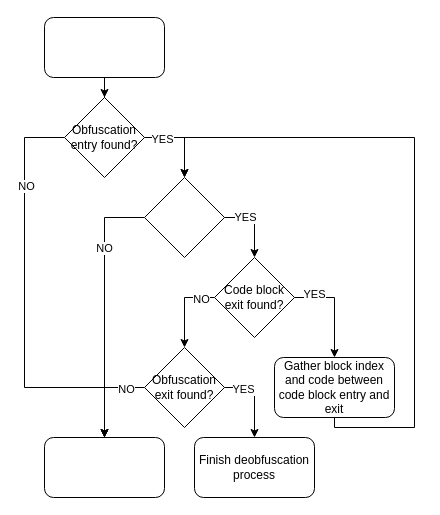
The diagram is 440 pixels wide and 515 high, and some of its shapes have lost their labels. Each missing label, with the centre of its shape:
Code block entry found?: the point at 184,217
Error during deobfuscation process: the point at 104,467
Start deobfuscation process: the point at 104,47
